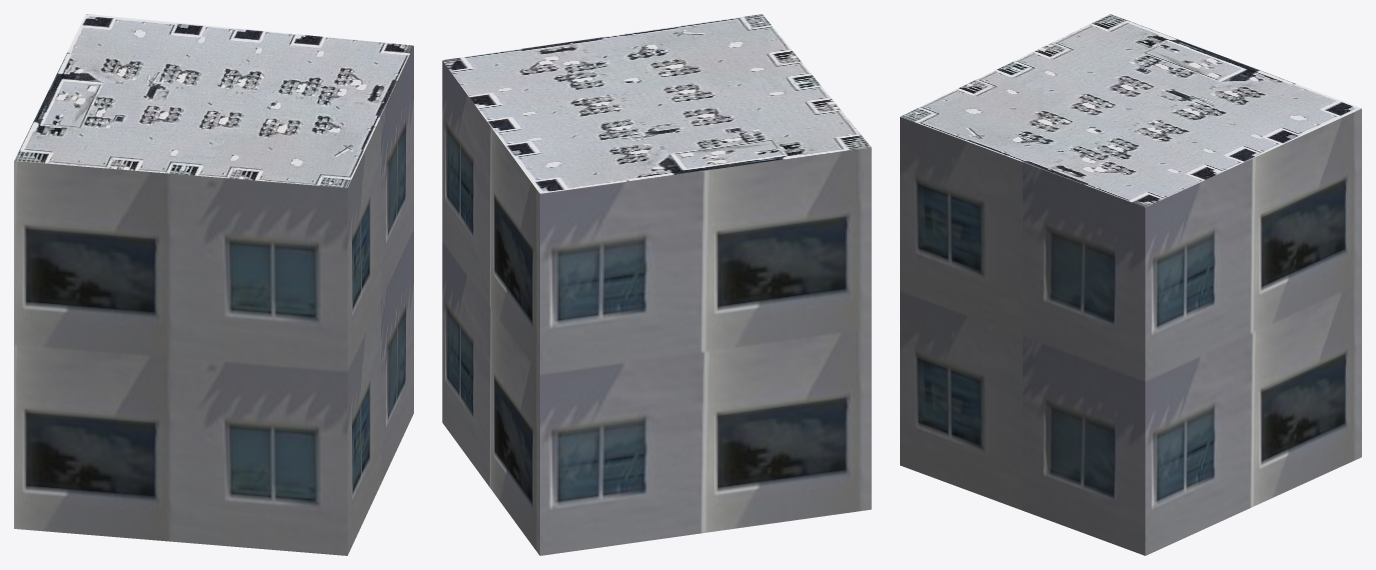
Rendered from ResTex__1182.fbx.
3 views of the same model, side by side, from view 1: azimuth 30°, elevation 25°; view 2: azimuth 150°, elevation 25°; view 3: azimuth 270°, elevation 25° (orthographic). The views are drawn at different scales.
Visible parts, largest first — view 1: CityEngineMaterial_10_m, CityEngineMaterial_8_m; view 2: CityEngineMaterial_10_m, CityEngineMaterial_8_m; view 3: CityEngineMaterial_10_m, CityEngineMaterial_8_m.
Part boxes in pixels (<box>): CityEngineMaterial_10_m: <box>14,46,413,555</box>; CityEngineMaterial_8_m: <box>14,14,413,187</box>; CityEngineMaterial_10_m: <box>442,61,871,555</box>; CityEngineMaterial_8_m: <box>442,14,871,193</box>; CityEngineMaterial_10_m: <box>900,109,1361,555</box>; CityEngineMaterial_8_m: <box>900,14,1361,207</box>.
Bounding box in the file's own units: 7.14 × 6 × 7.2.
2 materials, 2 textured.
